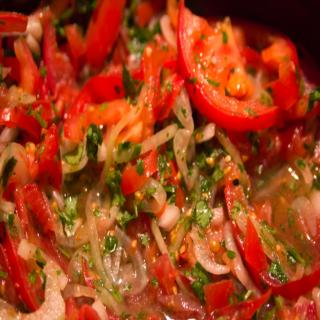tomato: (173, 0, 310, 133), (223, 167, 319, 290), (0, 34, 45, 136), (0, 230, 48, 312), (84, 0, 132, 72), (27, 123, 66, 185), (0, 12, 29, 37)
